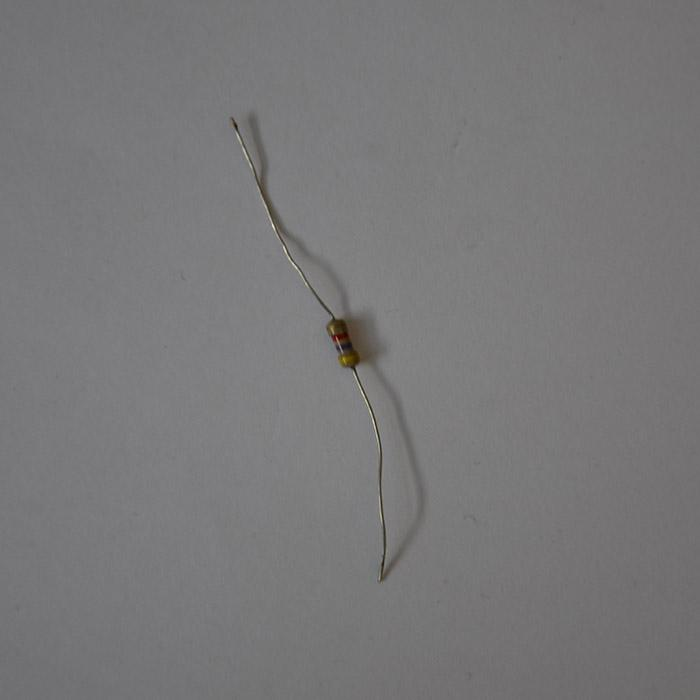resistor: (326, 317, 357, 368)
